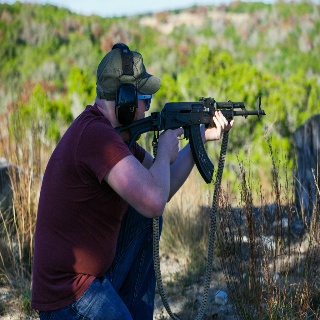rifle: (113, 95, 269, 185)
